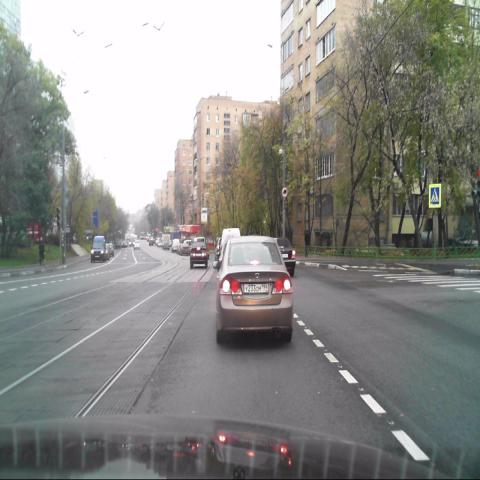5_19_1: (429, 184, 441, 207)
